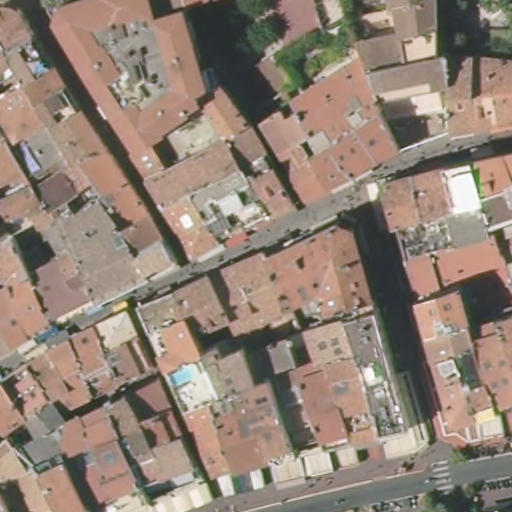pool: (170, 368, 199, 389)
